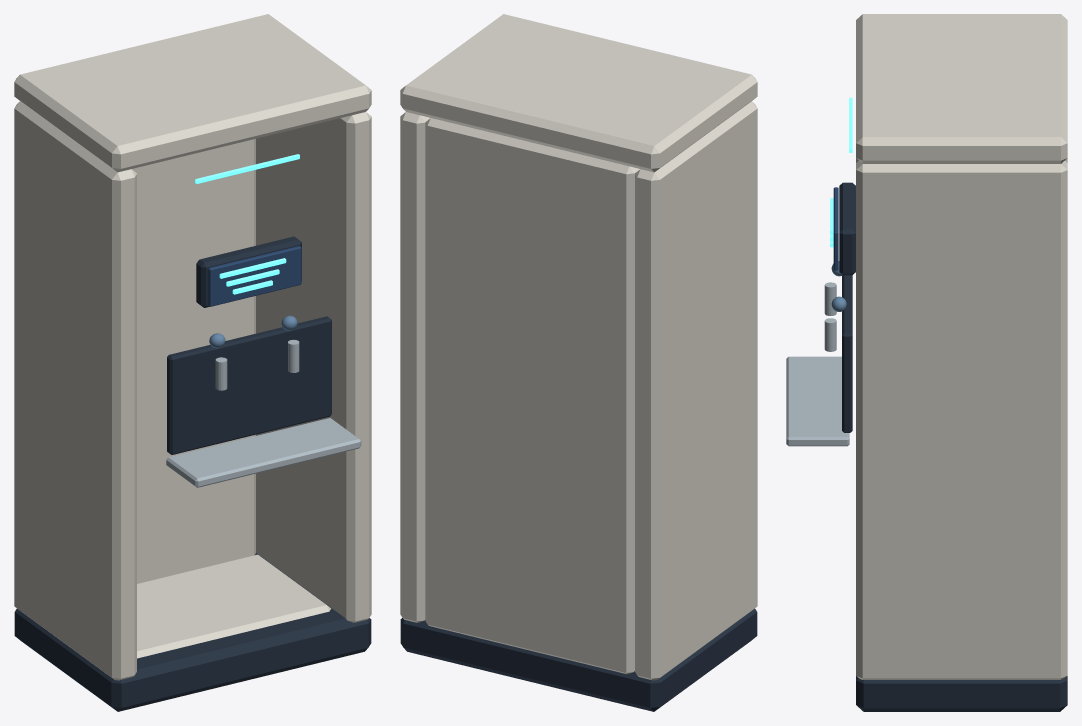
The model's file is school_09.glb.
The picture shows the model from 3 angles, left to right: view 1: azimuth 30°, elevation 25°; view 2: azimuth 150°, elevation 25°; view 3: azimuth 270°, elevation 25°; orthographic projection.
Visible parts, largest first — view 1: Side (×2), Back, Top, CupRecess, Base, Bottom, DripTray, Screen, MonitorFrame, StatusLight; view 2: Back, Side (×2), Top, Base; view 3: Side, Top, Base, DripTray, CupRecess, MonitorFrame, Screen.
Part boxes in pixels (x1,y1,x2,y2): Side (×2): (14,101,371,680); Back: (132,139,255,583); Top: (14,14,371,172); CupRecess: (167,316,331,454); Base: (14,553,371,711); Bottom: (137,554,331,658); DripTray: (166,418,361,487); Screen: (208,246,301,306); MonitorFrame: (196,236,301,307); StatusLight: (195,154,299,183); Back: (425,118,639,674); Side (×2): (400,101,757,680); Top: (400,14,757,172); Base: (400,609,757,711); Side: (856,161,1067,679); Top: (856,14,1067,163); Base: (856,676,1067,711); DripTray: (786,356,849,446); CupRecess: (842,275,852,432); MonitorFrame: (839,182,855,275); Screen: (833,187,838,270).
Bounding box in the file's own units: 0.72 × 1.5 × 0.665.
